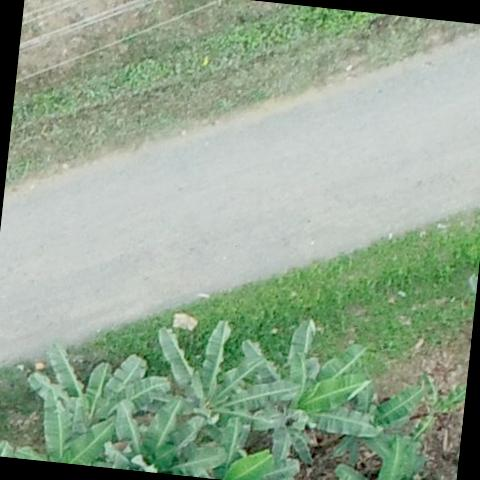Banana-plant: (230, 309, 394, 474), (145, 311, 308, 461), (21, 339, 179, 470), (326, 368, 435, 480), (400, 365, 467, 460)
